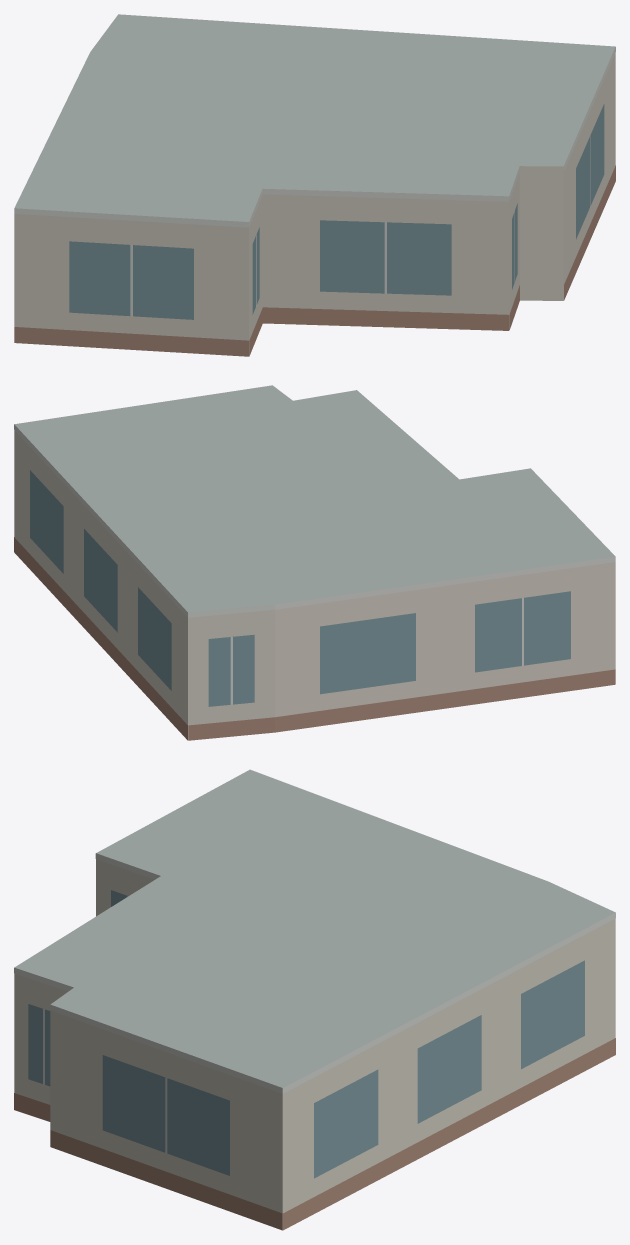
Rendered from survey-upis-32980945.glb.
3 views of the same model, one above another, from view 1: azimuth 30°, elevation 25°; view 2: azimuth 150°, elevation 25°; view 3: azimuth 270°, elevation 25° (orthographic). The views are drawn at different scales.
Visible parts, largest first — view 1: survey-upis-32980945.tmp; view 2: survey-upis-32980945.tmp; view 3: survey-upis-32980945.tmp.
Boxes of the visible parts, x1,y1,x2,y2 form: survey-upis-32980945.tmp: [14, 14, 615, 356]; survey-upis-32980945.tmp: [14, 385, 615, 740]; survey-upis-32980945.tmp: [14, 769, 615, 1230].
Size of the model in its own units: 14.64 by 3.05 by 11.69.
